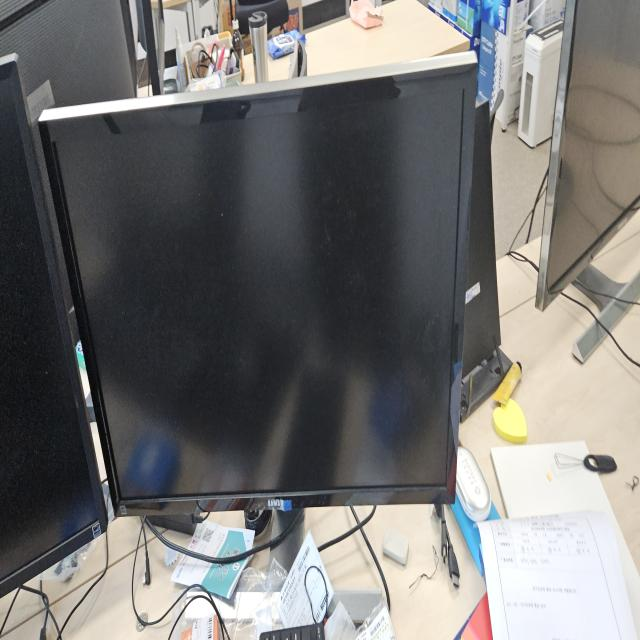Monitor: (36, 49, 482, 536)
